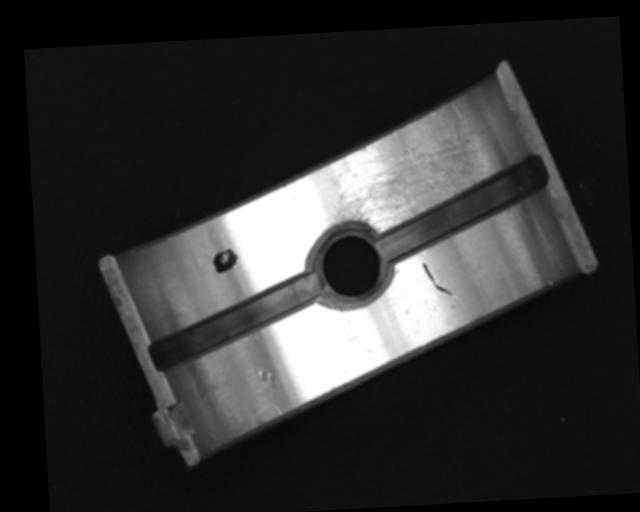blot: (211, 247, 239, 274)
bruise: (252, 366, 281, 394)
gap: (370, 154, 552, 264), (146, 271, 322, 369)
hole: (308, 222, 392, 307)
nick: (422, 258, 454, 297)
scratch: (324, 99, 490, 239)
